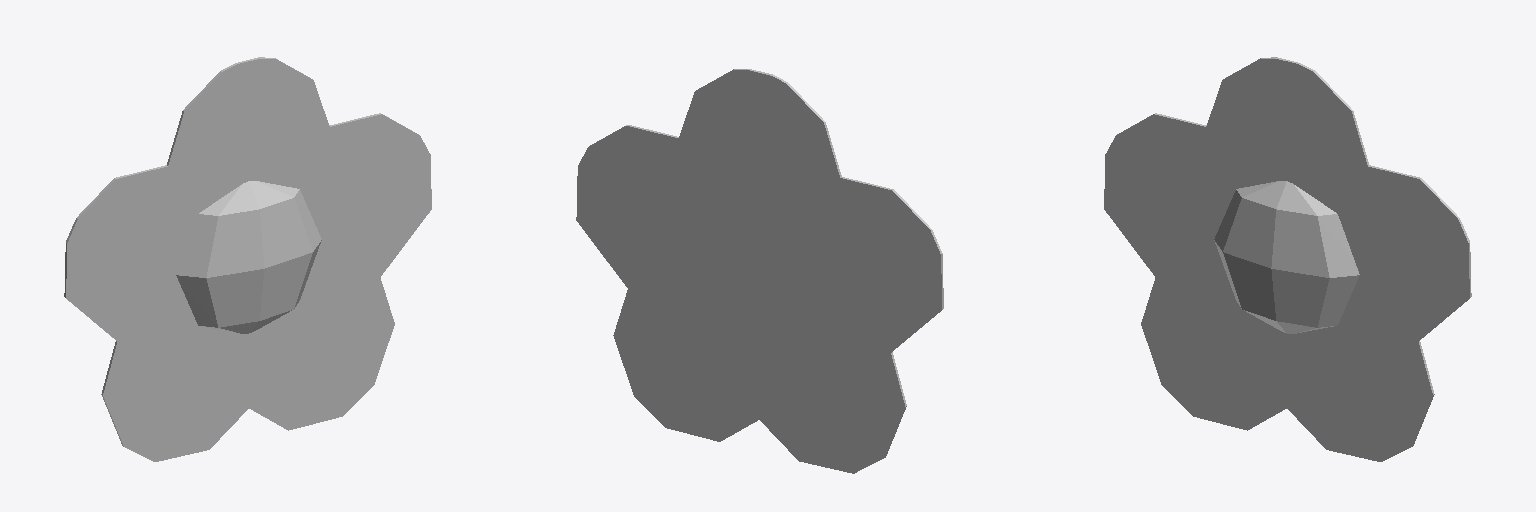
Rendered from FlowerParticle.obj.
3 renders of one model, left to right at view 1: azimuth 30°, elevation 25°; view 2: azimuth 150°, elevation 25°; view 3: azimuth 330°, elevation 25°, orthographic.
Parts seen in each view (by area): view 1: Mesh; view 2: Mesh; view 3: Mesh.
Boxes of the visible parts, box(x1,y1,x2,y2) form: Mesh: box(64, 57, 431, 461); Mesh: box(576, 69, 943, 473); Mesh: box(1104, 57, 1471, 461).
Bounding box in the file's own units: 6.54 × 6.47 × 0.533.